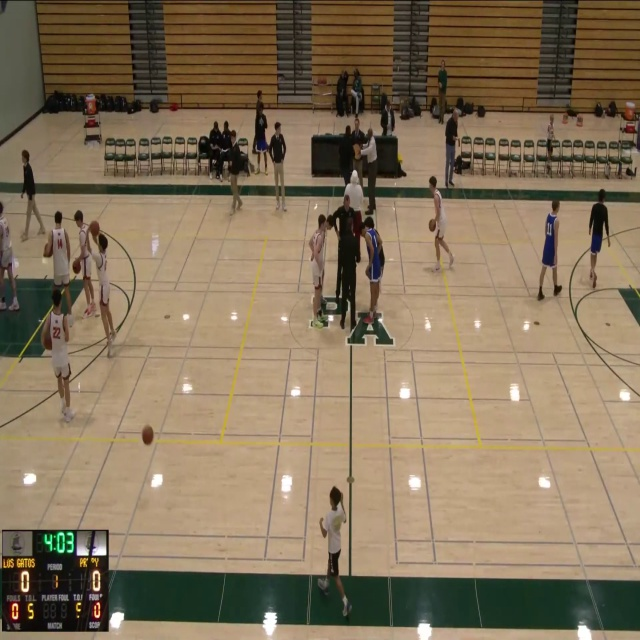Basketball: (142, 425, 153, 445), (42, 331, 52, 349), (89, 220, 99, 237), (43, 243, 52, 257), (72, 260, 80, 273), (428, 219, 436, 231)
